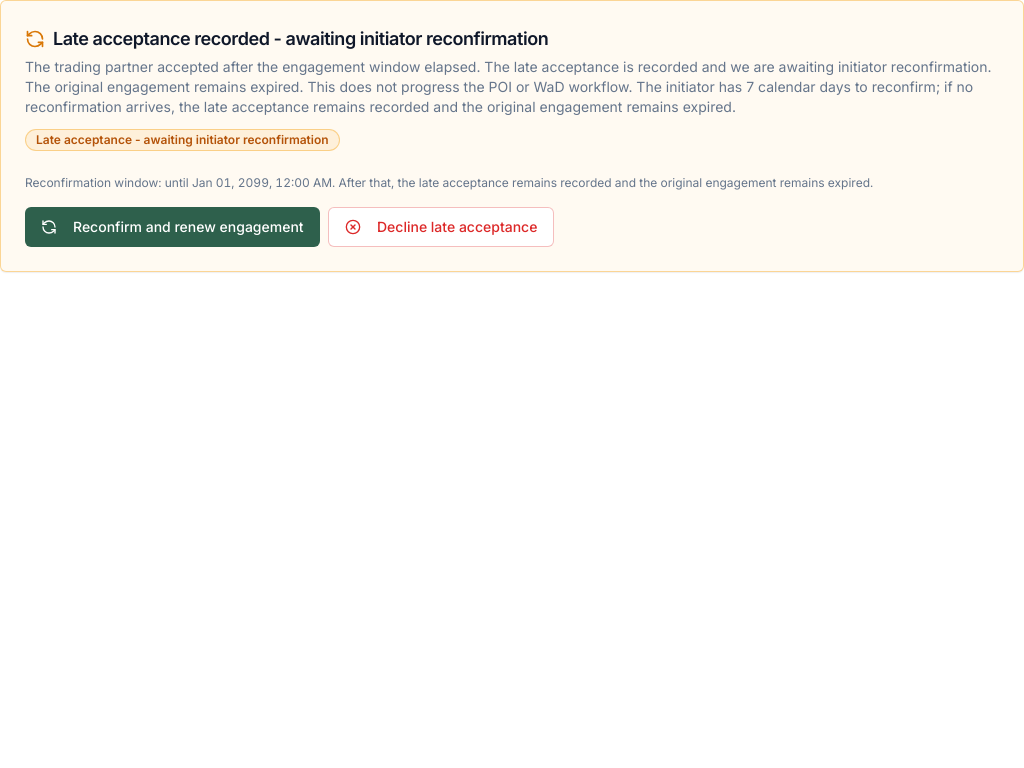
ReconfirmLateAcceptanceCard — route wiring › Decline shows confirmation dialog before firing the request
Click the button with test id "decline-late-acceptance-button" at (441, 227), box [328,207,554,247]
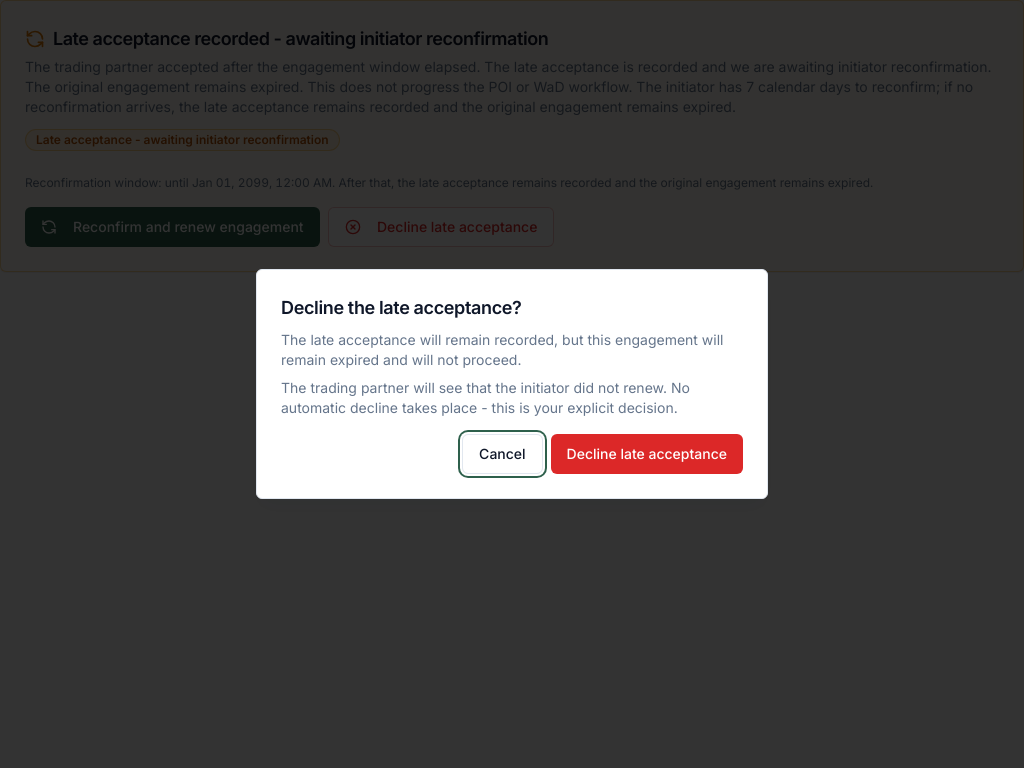
Now the button with test id "reconfirm-dialog-cancel" is shown, box [462,434,543,474]
